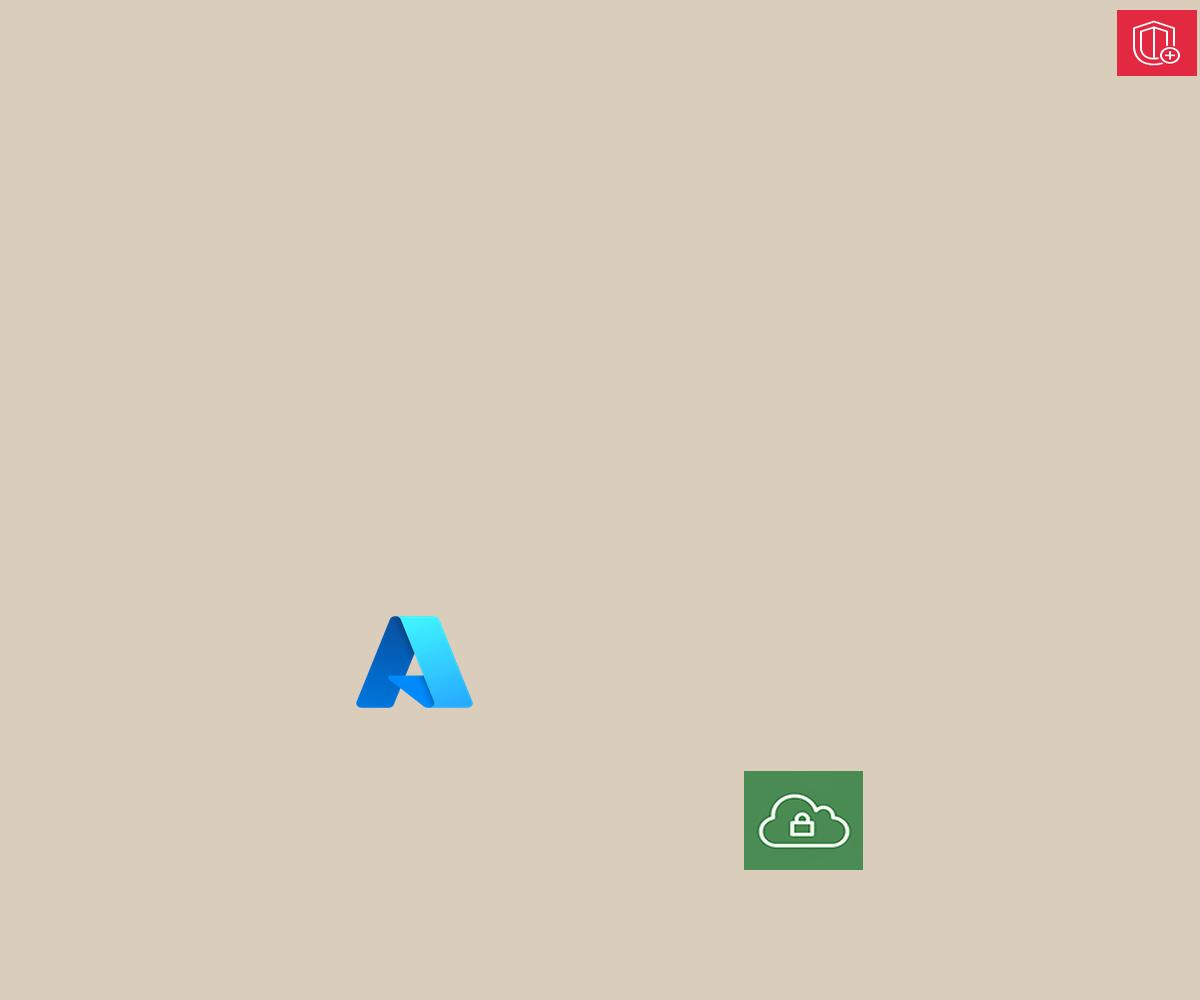AWS-Private_vpc: (744, 771, 863, 870)
AWS-Shield: (1117, 10, 1197, 76)
Azure_services: (351, 609, 478, 715)
